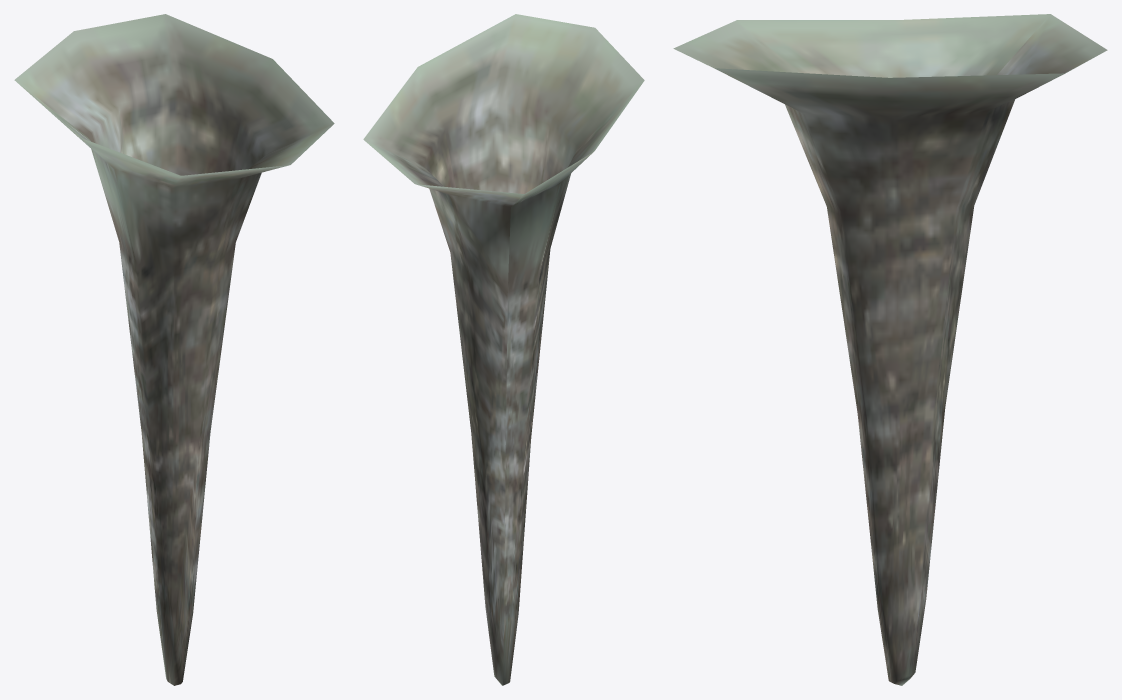
The model's file is TROLLHOLE02_PS-MAINSTALAG23.fbx.
3 renders of one model, left to right at view 1: azimuth 30°, elevation 25°; view 2: azimuth 150°, elevation 25°; view 3: azimuth 270°, elevation 25°, orthographic. The views are drawn at different scales.
Visible parts, largest first — view 1: TROLLHOLE02_PS-MAINSTALAG23; view 2: TROLLHOLE02_PS-MAINSTALAG23; view 3: TROLLHOLE02_PS-MAINSTALAG23.
Boxes of the visible parts, x1=… form: TROLLHOLE02_PS-MAINSTALAG23: x1=14, y1=14, x2=334, y2=685; TROLLHOLE02_PS-MAINSTALAG23: x1=363, y1=14, x2=644, y2=685; TROLLHOLE02_PS-MAINSTALAG23: x1=673, y1=14, x2=1107, y2=685.
Bounding box in the file's own units: 9705 × 30257 × 18146.
1 material, 1 textured.
